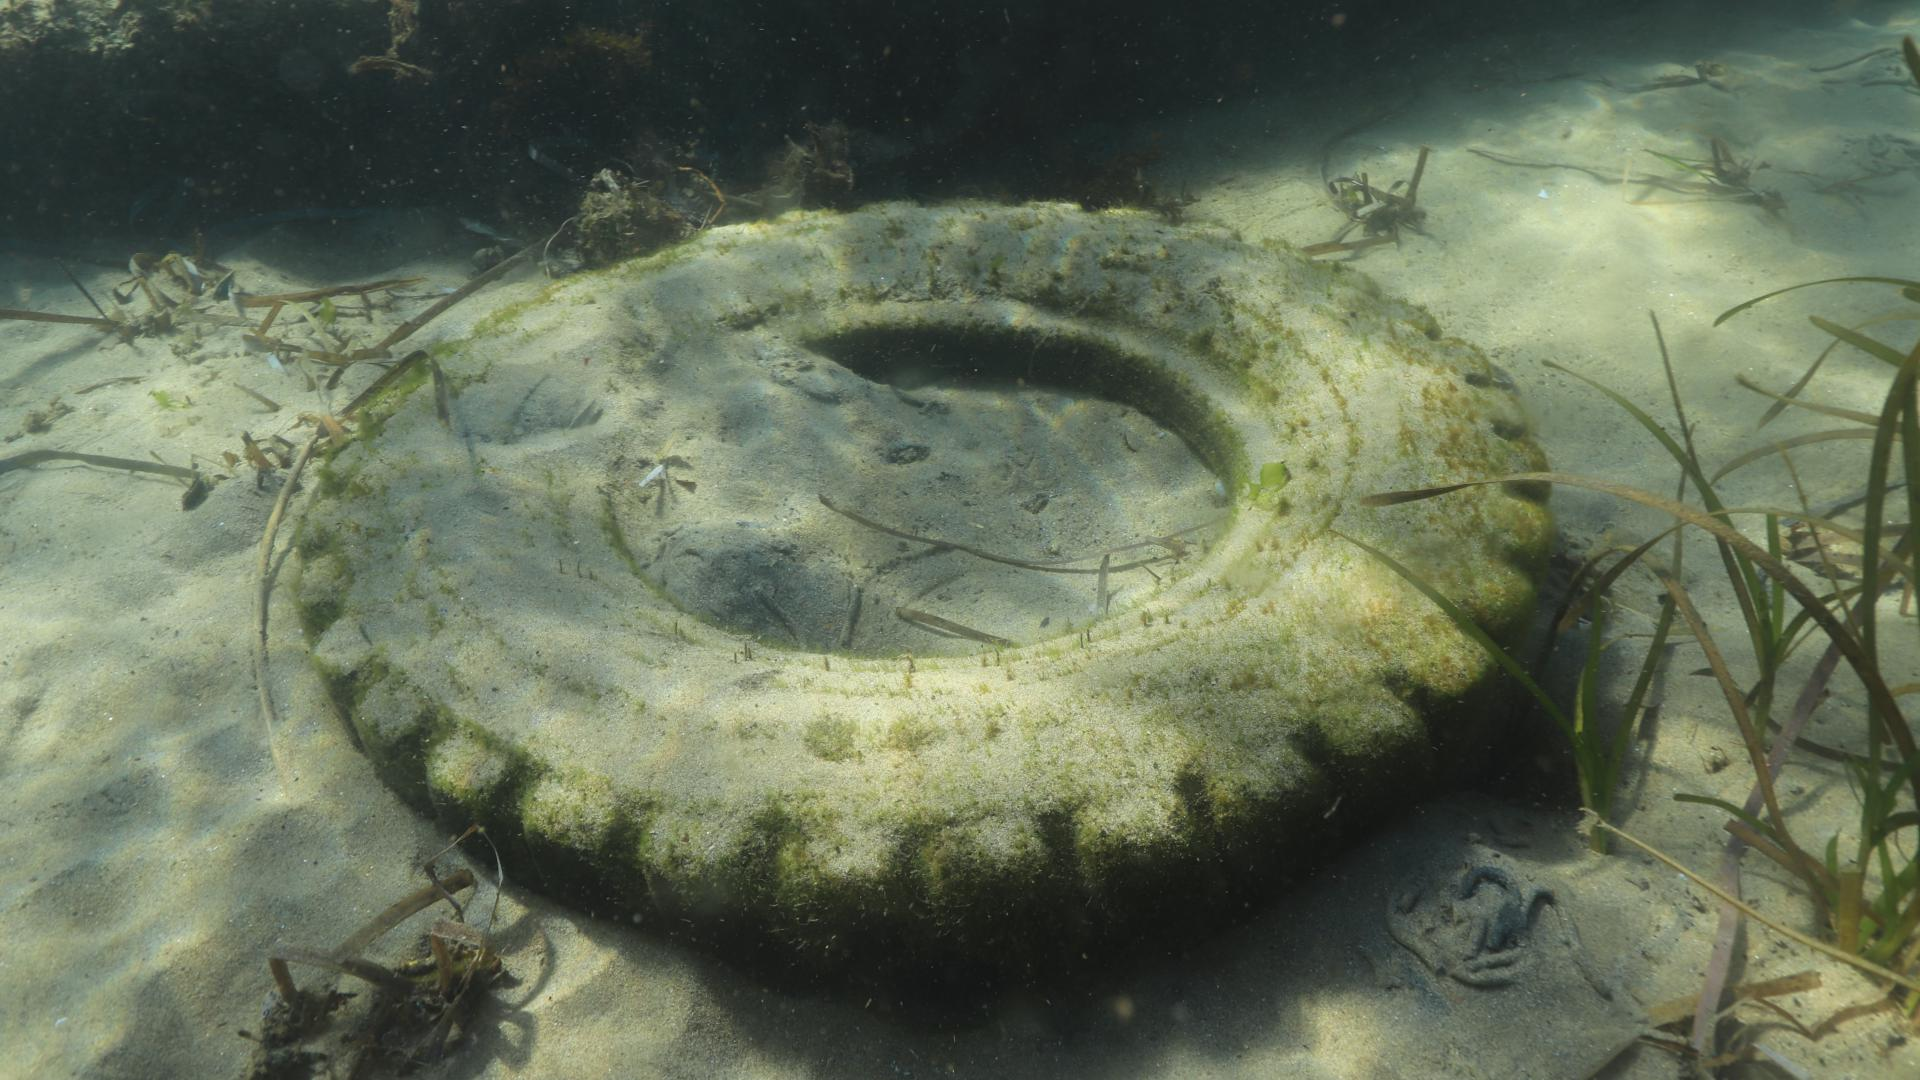tire: (289, 198, 1553, 993)
